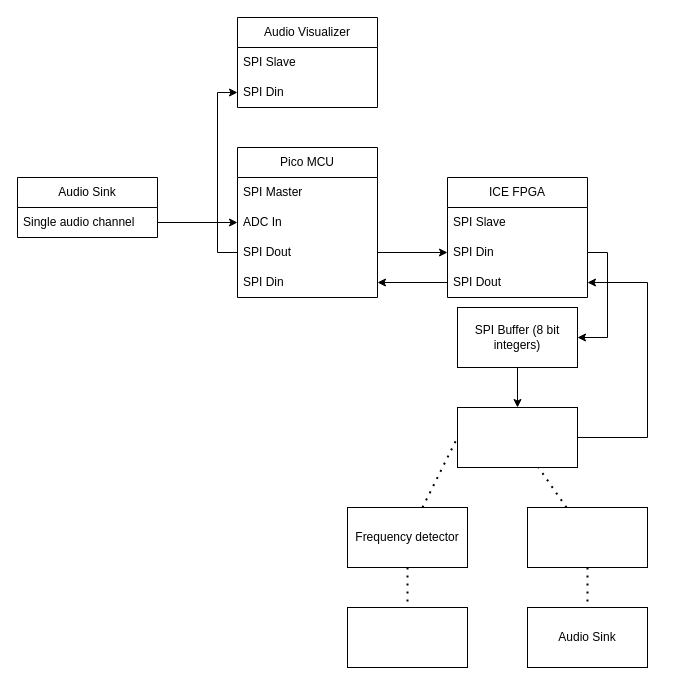
Some shapes in this 673 by 685 pixel diagram are drawn without their labels. The shapes that lost their labels are listed below. From the top down, each one's centre as x and y in pixels, then its label:
the point at 517,437: 8 bit 32 point FFT
the point at 587,537: digital modulations
the point at 407,637: Direct SSD Connection
